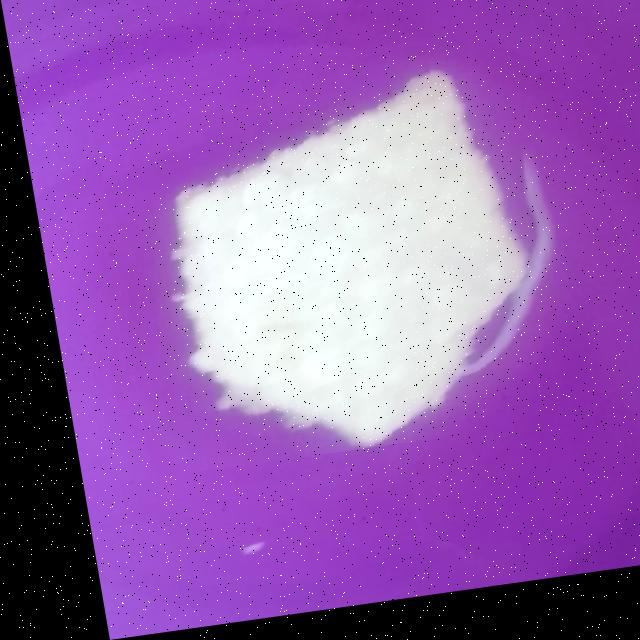litter: (82, 42, 560, 480)
